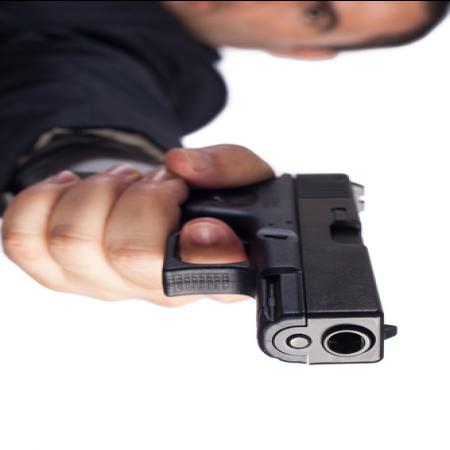Pistol: (68, 170, 405, 366)
